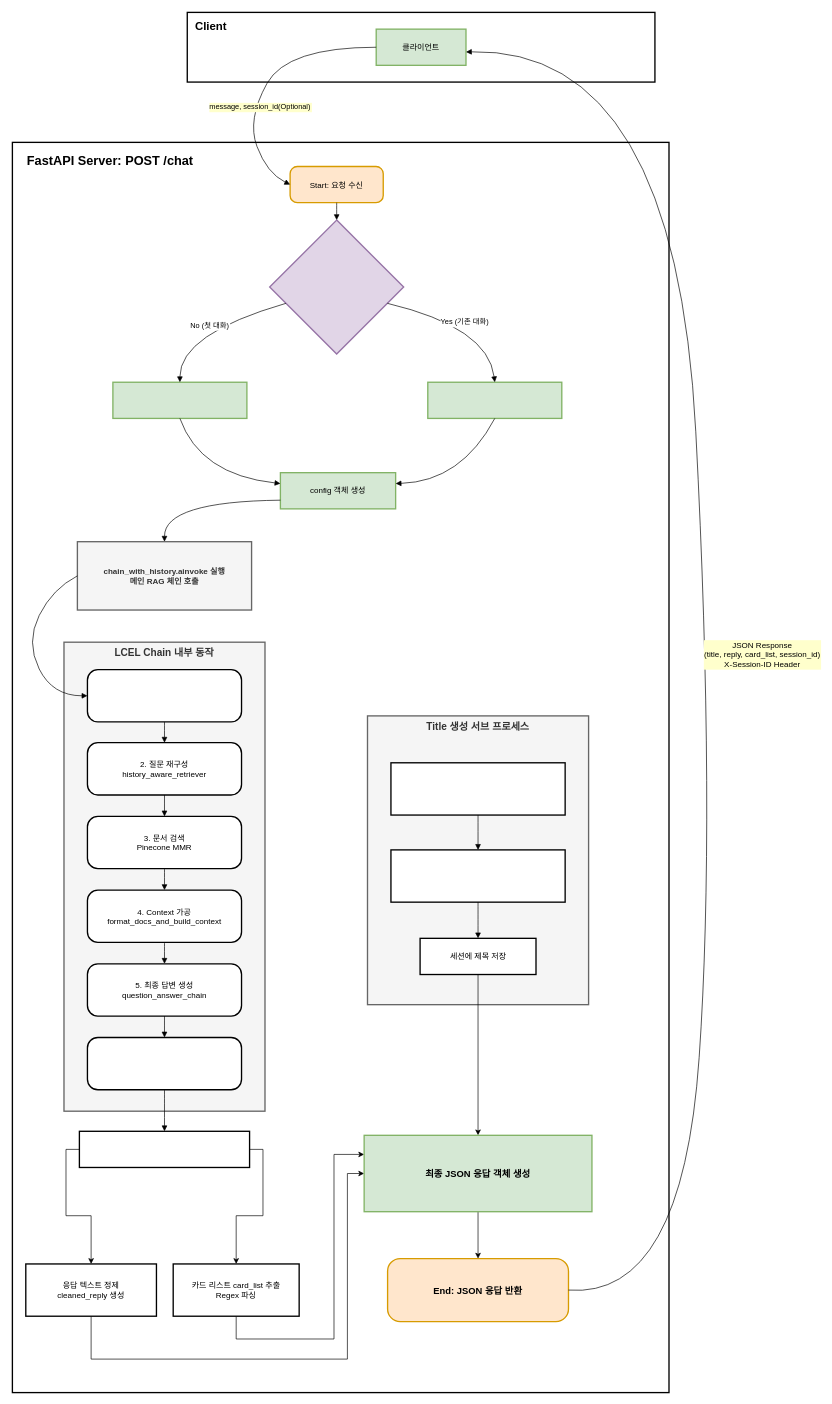
The diagram is 832 pixels wide and 1404 high, and some of its shapes have lost their labels. Each missing label, with the centre of its shape:
1. 대화 기록 로드 RunnableWithMessageHistory: (x=164, y=695)
1. 토픽 추출 체인 실행 topic_extraction_chain: (x=477, y=788)
2. 최종 제목 체인 실행 final_title_chain: (x=477, y=875)
6. 대화 기록 저장 RunnableWithMessageHistory: (x=164, y=1063)
session_id 포함 여부?: (x=336, y=286)
기존 session_id 사용: (x=494, y=400)
신규 session_id 생성: (x=179, y=400)
최종 답변 final_answer 추출: (x=164, y=1149)
